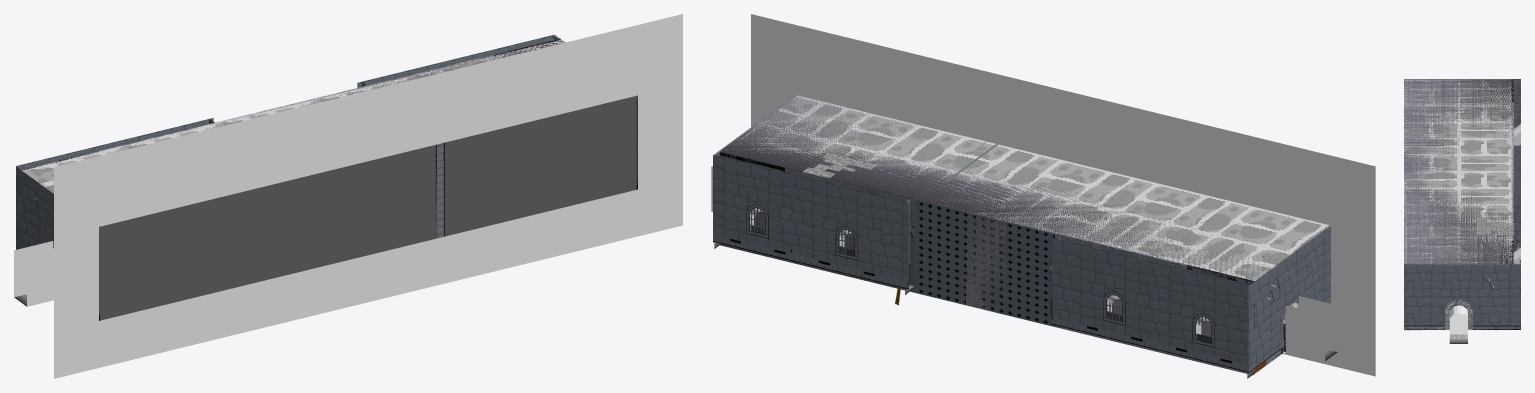
Rendered from gon_06.dae.
The picture shows the model from 3 angles, left to right: view 1: azimuth 30°, elevation 25°; view 2: azimuth 150°, elevation 25°; view 3: azimuth 270°, elevation 25°; orthographic projection. The views are drawn at different scales.
Visible parts, largest first — view 1: kuro6, a_kabemae, polySurface553_q00021, polySurface473_q00079_part0, polySurface917_q00062_part0, polySurface409_q00009, polySurface461_q00072_part1, pCube151_q00074, a_ten; view 2: kuro6, polySurface553_q00021, polySurface917_q00062_part0, a_ten, polySurface79_q00088, polySurface473_q00079_part0, a_kabeushi, polySurface917_q00062_part3, polySurface409_q00009, polySurface917_q00062_part1, polySurface840_q00060_part0, pCube151_q00074 (+3 smaller); view 3: polySurface553_q00021, a_ten, polySurface474_q00080_part0, polySurface474_q00080_part1, pCube151_q00074, a_kabeyoko, polySurface485_q00078_part0, polySurface906, polySurface461_q00073, polySurface787_q00022, polySurface473_q00079_part0, polySurface408_q00081_part0 (+3 smaller).
Boxes of the visible parts, x1,y1,x2,y2 form: kuro6: (54, 14, 682, 378); a_kabemae: (100, 96, 636, 320); polySurface553_q00021: (21, 39, 563, 193); polySurface473_q00079_part0: (16, 166, 53, 249); polySurface917_q00062_part0: (16, 35, 554, 169); polySurface409_q00009: (14, 241, 53, 306); polySurface461_q00072_part1: (435, 142, 444, 238); pCube151_q00074: (21, 38, 560, 171); a_ten: (41, 39, 562, 184); kuro6: (751, 14, 1375, 376); polySurface553_q00021: (721, 96, 1329, 281); polySurface917_q00062_part0: (713, 155, 1248, 365); a_ten: (720, 95, 1281, 280); polySurface79_q00088: (914, 199, 1054, 326); polySurface473_q00079_part0: (1248, 226, 1330, 371); a_kabeushi: (719, 159, 1252, 374); polySurface917_q00062_part3: (740, 204, 1221, 365); polySurface409_q00009: (1284, 296, 1337, 361); polySurface917_q00062_part1: (713, 234, 1248, 372); polySurface840_q00060_part0: (718, 152, 1252, 285); pCube151_q00074: (719, 152, 1254, 284); polySurface553_q00021: (1404, 79, 1513, 264); a_ten: (1404, 79, 1513, 263); polySurface474_q00080_part0: (1404, 264, 1520, 325); polySurface474_q00080_part1: (1404, 300, 1520, 329); pCube151_q00074: (1511, 79, 1513, 266); a_kabeyoko: (1404, 300, 1513, 329); polySurface485_q00078_part0: (1513, 145, 1520, 197); polySurface906: (1477, 218, 1513, 234); polySurface461_q00073: (1513, 198, 1520, 251); polySurface787_q00022: (1449, 308, 1467, 334); polySurface473_q00079_part0: (1513, 79, 1520, 128); polySurface408_q00081_part0: (1449, 305, 1467, 317).
Bounding box in the file's own units: 140 × 45 × 32.
